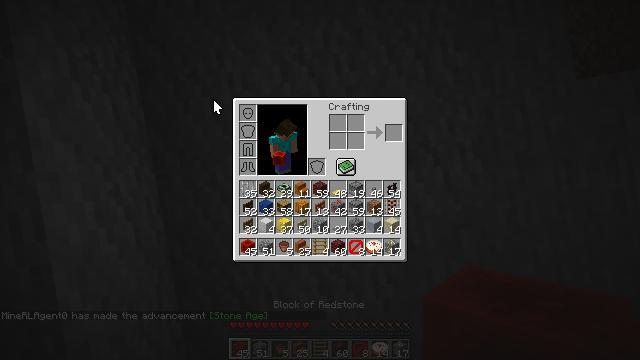cursor: (99, 213, 115, 223)
